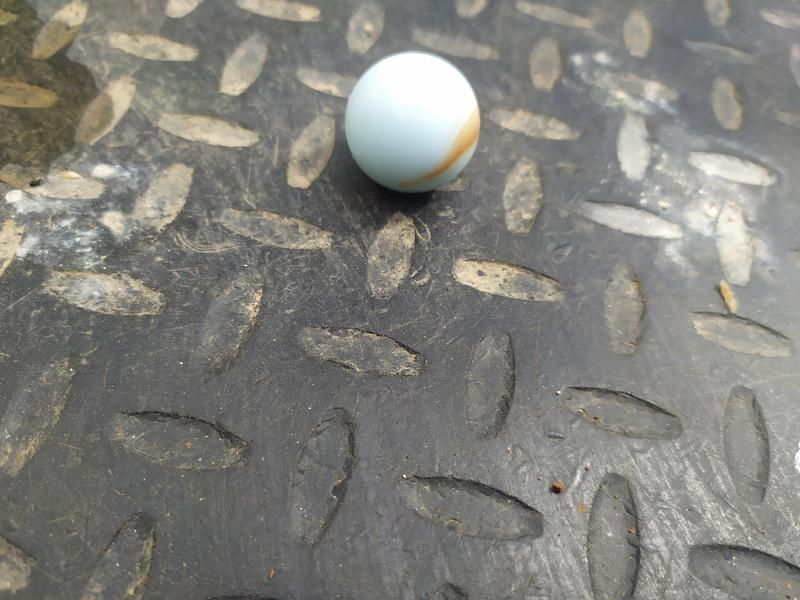Warning: (341, 49, 484, 198)
